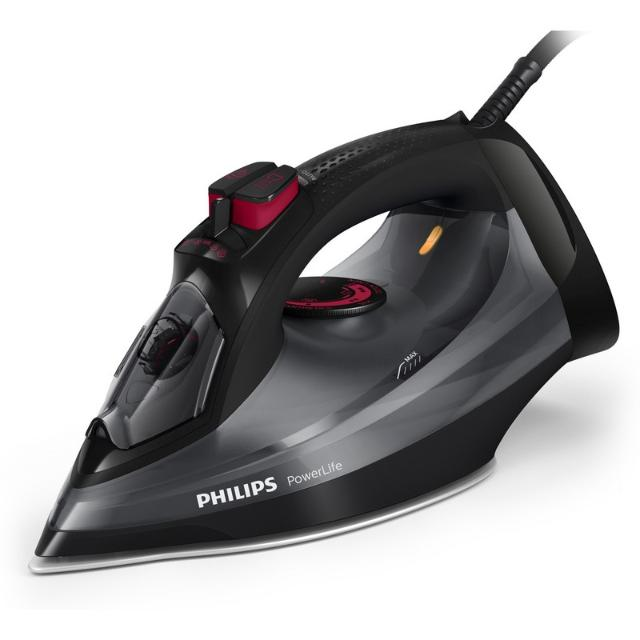Clothes-Iron: (16, 93, 626, 582)
